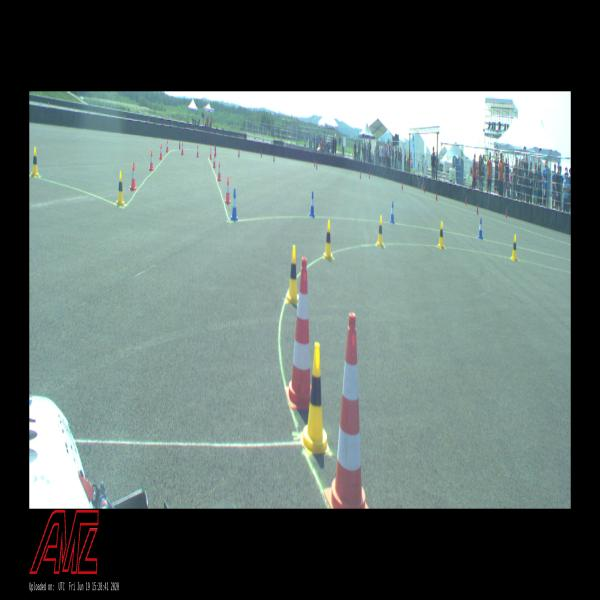blue_cone: (231, 188, 238, 220), (309, 192, 315, 217), (478, 219, 483, 238), (390, 202, 394, 223)
large_orange_cone: (324, 313, 370, 509), (285, 258, 311, 408)
orange_cone: (129, 164, 137, 190), (224, 178, 230, 204), (149, 151, 154, 171), (217, 162, 222, 180), (159, 144, 163, 159), (213, 153, 216, 168), (166, 140, 169, 152), (196, 145, 199, 157), (181, 143, 184, 154), (210, 148, 212, 159)
unknown_cone: (505, 208, 507, 219), (179, 140, 181, 150), (476, 204, 478, 214), (214, 142, 216, 151), (238, 150, 240, 158), (273, 154, 275, 162), (215, 146, 216, 157), (436, 191, 437, 201), (402, 182, 403, 190), (465, 197, 466, 205), (261, 150, 262, 157), (316, 162, 317, 169), (360, 172, 361, 179), (369, 172, 370, 179), (424, 186, 425, 193), (314, 160, 315, 166)
yellow_cone: (301, 343, 330, 453), (286, 246, 299, 302), (29, 147, 41, 177), (116, 172, 125, 206), (324, 220, 332, 258), (376, 215, 384, 246), (437, 221, 445, 249), (510, 235, 518, 261)
